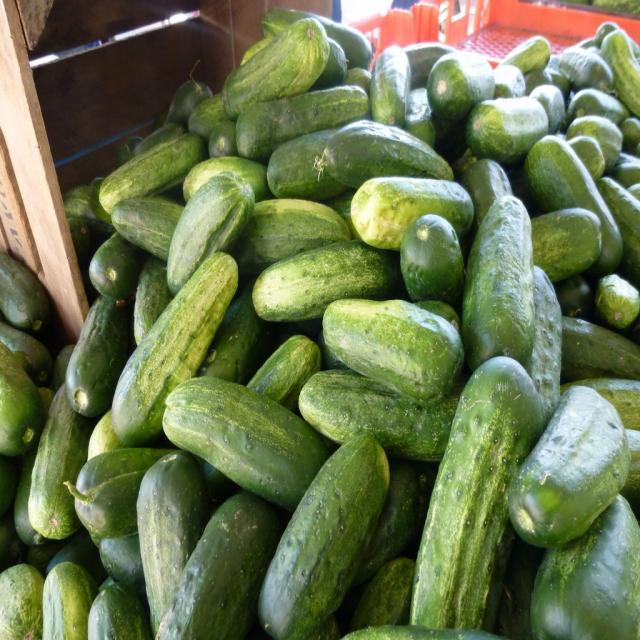Cucumber: (0, 9, 639, 639), (256, 429, 391, 640), (160, 372, 335, 508)
